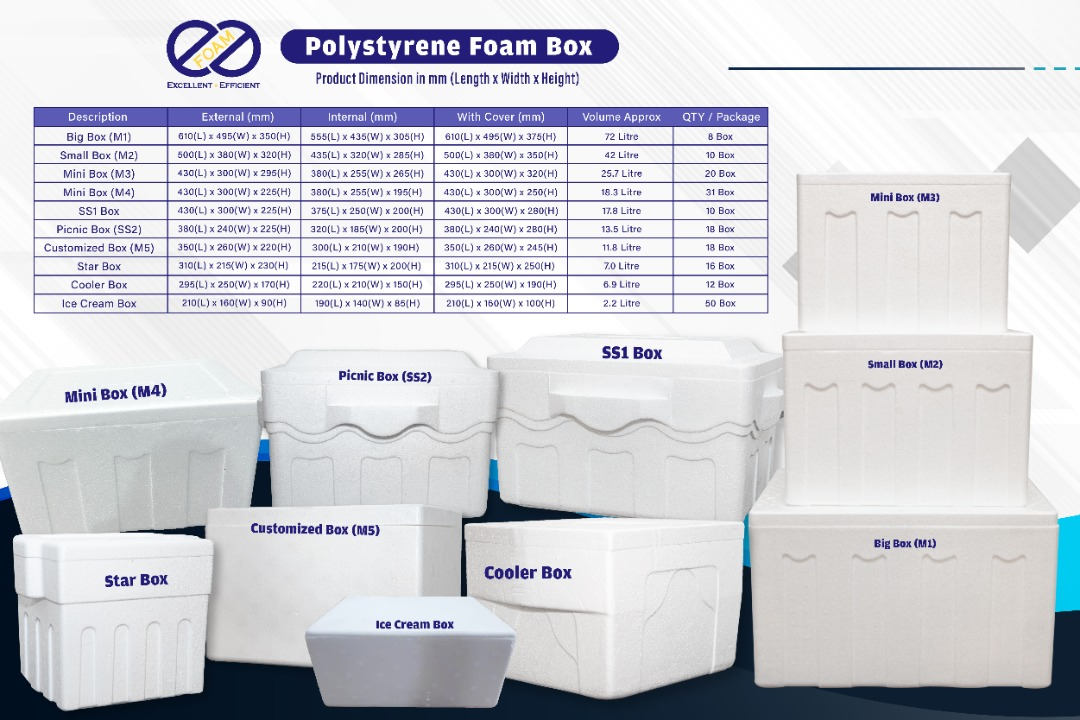Boxes: (750, 465, 1057, 687), (491, 335, 782, 520), (465, 518, 742, 698), (783, 332, 1031, 505), (0, 369, 260, 533), (206, 505, 462, 665), (263, 350, 496, 516), (13, 533, 212, 709), (797, 174, 1010, 332), (305, 596, 514, 707)
